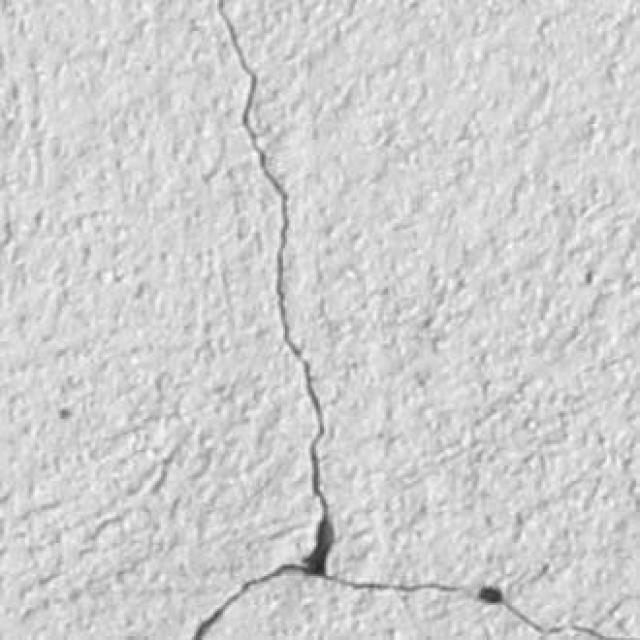crack: (194, 0, 639, 639), (218, 0, 335, 574), (317, 575, 639, 639)
